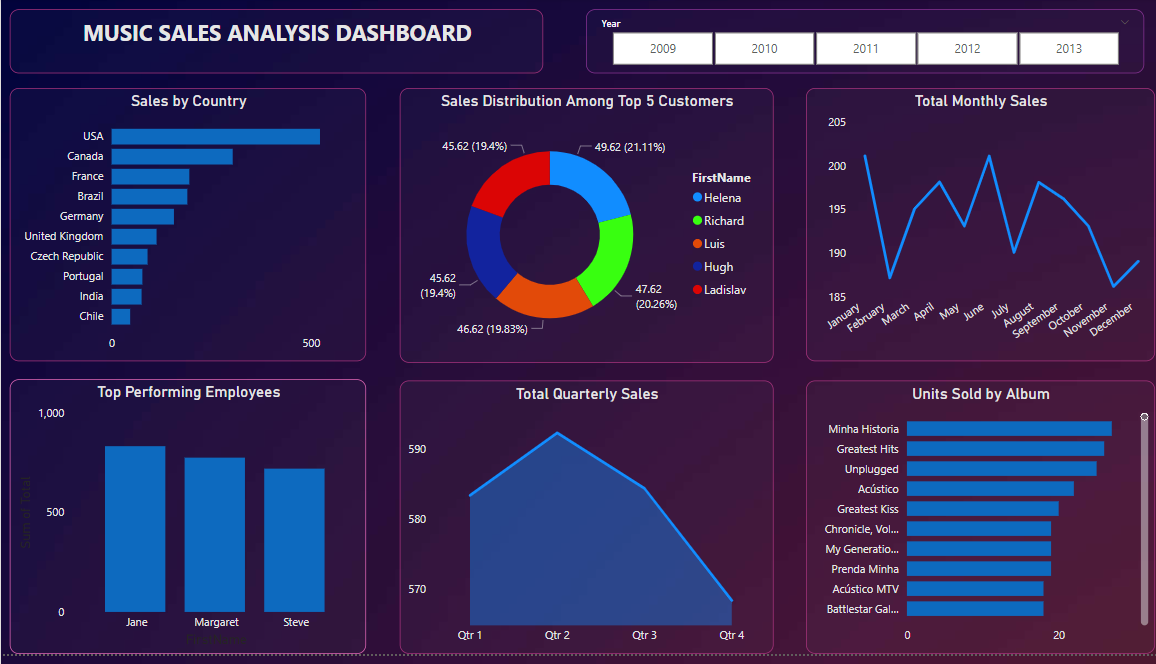

The page's visual inventory and layout, read from the dashboard file:
{"tool":"powerbi","page":{"name":"Page 2","canvas":[1280,720],"ordinal":0},"visuals":[{"type":"textbox","box":[10,12.9,585.7,70],"z":0},{"type":"clusteredBarChart","title":"Sales by Country","fields":{"Category":["customers.Country"],"Y":["invoices.Total"]},"box":[10,98.6,391.4,300],"z":1000},{"type":"donutChart","title":"Sales Distribution Among Top 5 Customers","fields":{"Category":["customers.FirstName"],"Y":["invoices.Total"]},"box":[437.1,98.6,410,301.4],"z":2000},{"type":"areaChart","title":"Total Quarterly Sales","fields":{"Y":["invoices.Total"],"Category":["invoices.InvoiceDate.Variation.Date Hierarchy.Quarter"]},"box":[437.1,420,410,300],"z":3000},{"type":"clusteredColumnChart","title":"Top Performing Employees","fields":{"Category":["employees.FirstName"],"Y":["invoices.Total"]},"box":[10,418.6,391.4,301.4],"z":4000},{"type":"clusteredBarChart","title":"Units Sold by Album","fields":{"Category":["album.Title"],"Y":["invoice_item.Quantity"]},"box":[884.3,420,382.9,300],"z":5000},{"type":"lineChart","title":"Total Monthly Sales","fields":{"Category":["invoices.InvoiceDate.Variation.Date Hierarchy.Month"],"Y":["invoices.Total"]},"box":[884.3,98.6,382.9,300],"z":6000},{"type":"slicer","fields":{"Values":["invoices.InvoiceDate.Variation.Date Hierarchy.Year"]},"box":[642.9,12.9,612.9,70],"z":7000}]}

Visuals, with their boxes in screenshot pixels (x1, y1, x2, y2), scaled from the page's 1280x720 canvas onto the 1156x664 screenshot:
textbox: BBox(9, 12, 538, 76)
"Sales by Country" clusteredBarChart: BBox(9, 91, 363, 368)
"Sales Distribution Among Top 5 Customers" donutChart: BBox(395, 91, 765, 369)
"Total Quarterly Sales" areaChart: BBox(395, 387, 765, 663)
"Top Performing Employees" clusteredColumnChart: BBox(9, 386, 363, 663)
"Units Sold by Album" clusteredBarChart: BBox(799, 387, 1144, 663)
"Total Monthly Sales" lineChart: BBox(799, 91, 1144, 368)
slicer - invoices.InvoiceDate.Variation.Date Hierarchy.Year: BBox(581, 12, 1134, 76)
